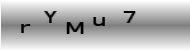7: (122, 9, 137, 25)
M: (65, 20, 84, 35)
Y: (43, 10, 58, 24)
r: (19, 23, 31, 34)
u: (91, 16, 106, 28)
